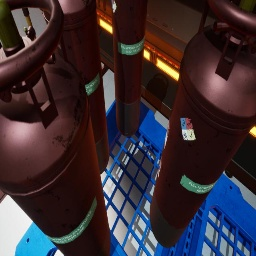NitrogenTank ,: (0, 0, 111, 256), (149, 0, 256, 248), (43, 0, 110, 175), (111, 0, 148, 137)
